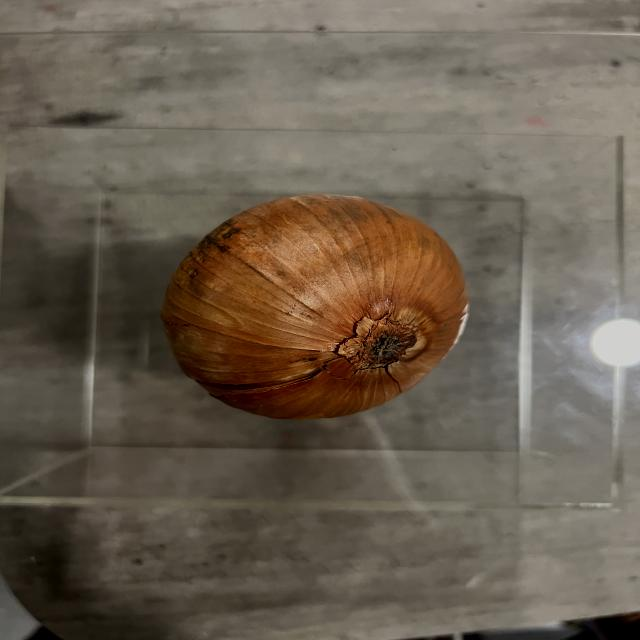onion: (162, 193, 473, 423)
